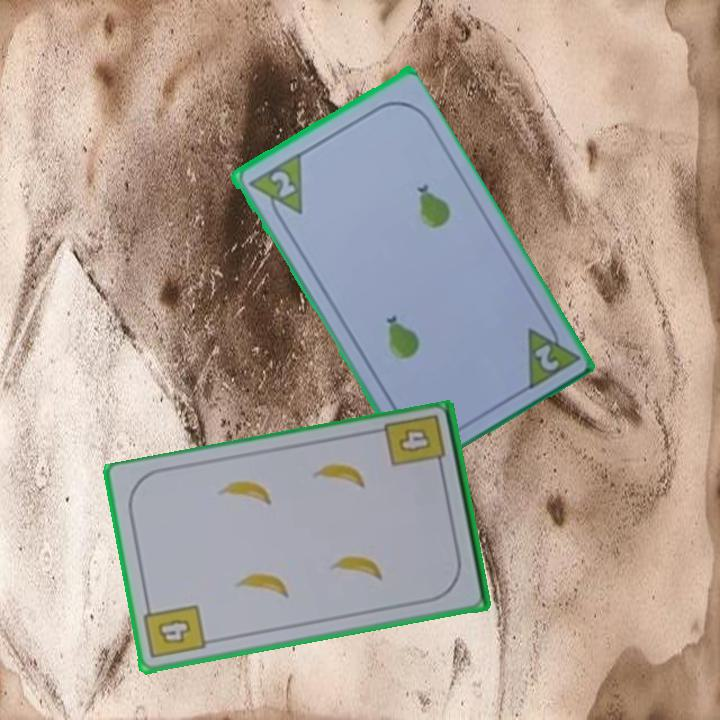2p: (266, 167, 298, 201), (530, 340, 562, 374)
4b: (381, 411, 449, 477), (140, 599, 209, 662)
